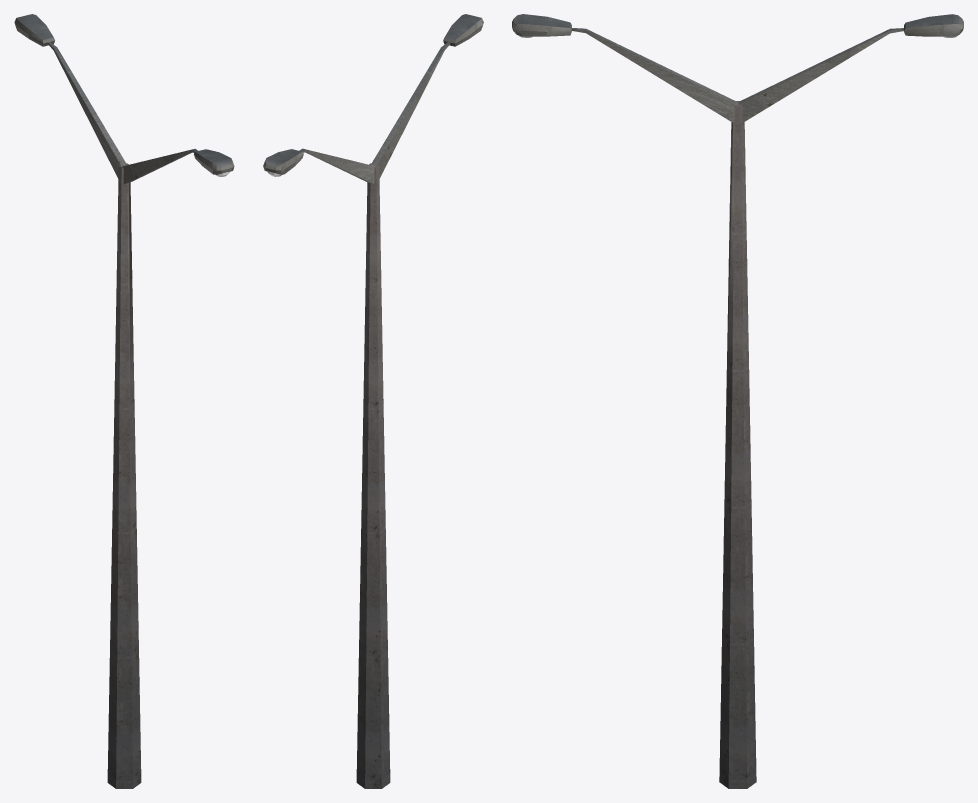
Rendered from Pillar2.FBX.
3 renders of one model, left to right at view 1: azimuth 30°, elevation 25°; view 2: azimuth 150°, elevation 25°; view 3: azimuth 270°, elevation 25°, orthographic. The views are drawn at different scales.
Visible parts, largest first — view 1: Pillar2; view 2: Pillar2; view 3: Pillar2.
Part boxes in pixels (x1,y1,x2,y2): Pillar2: [14, 14, 234, 788]; Pillar2: [263, 14, 483, 788]; Pillar2: [512, 14, 963, 788].
Size of the model in its own units: 0.4091 by 5.74 by 10.69.
